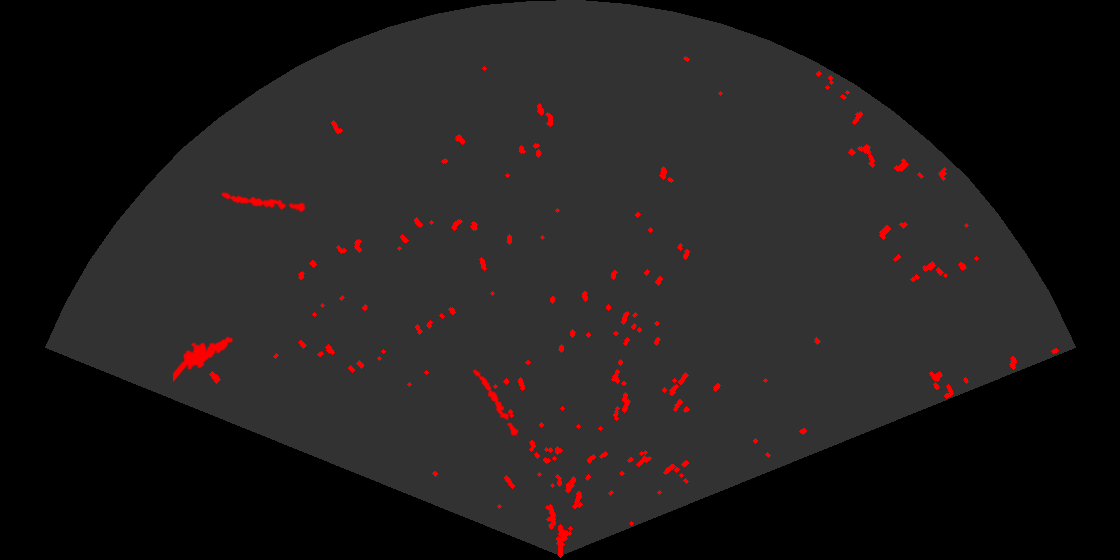chain: (471, 368, 522, 441), (220, 191, 306, 214)
frogman: (173, 335, 235, 382)
